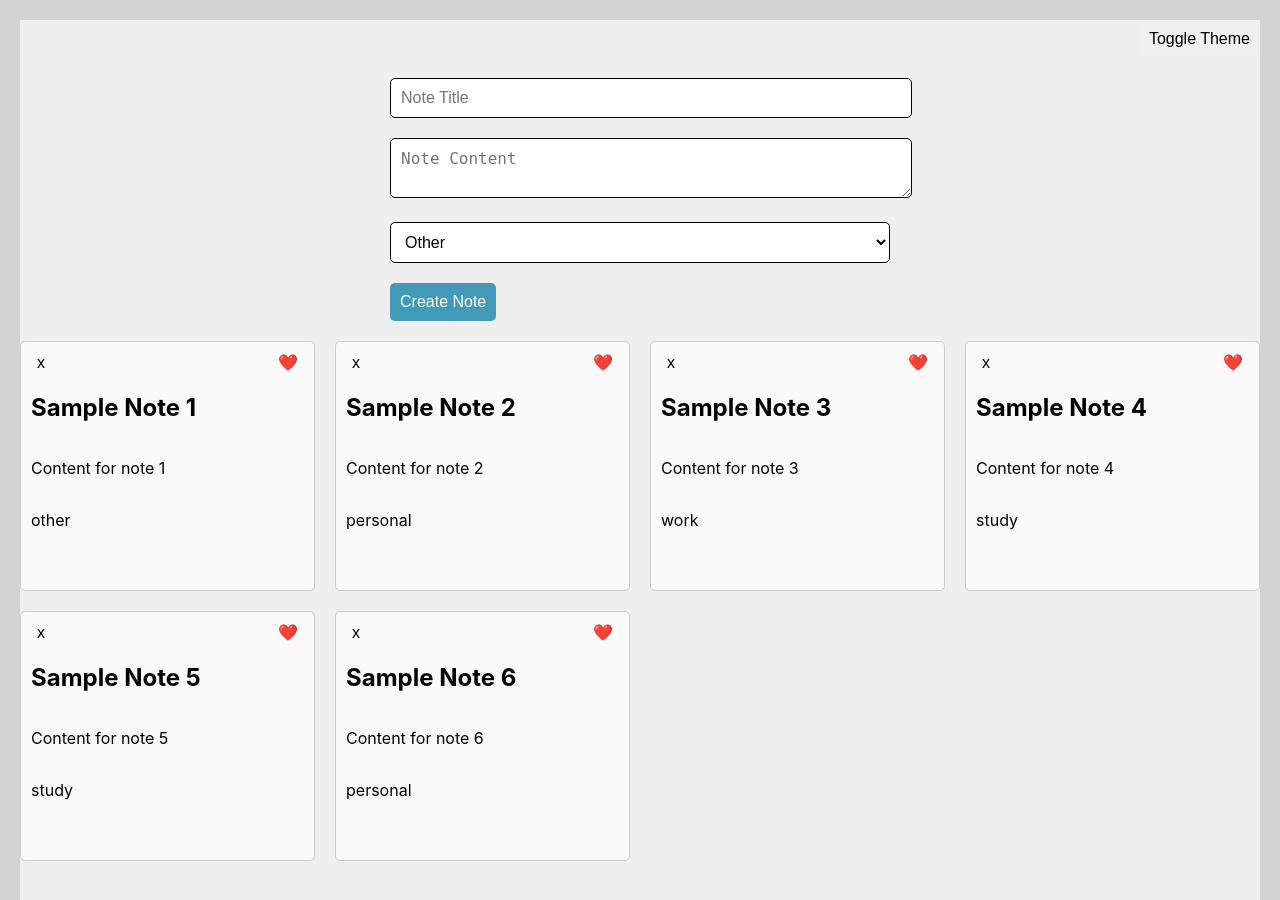
Test: StickyNotes Component › creates a new note
Type "Test Note" into the field with placeholder "Note Title" at (651, 98), box [390, 78, 912, 118]
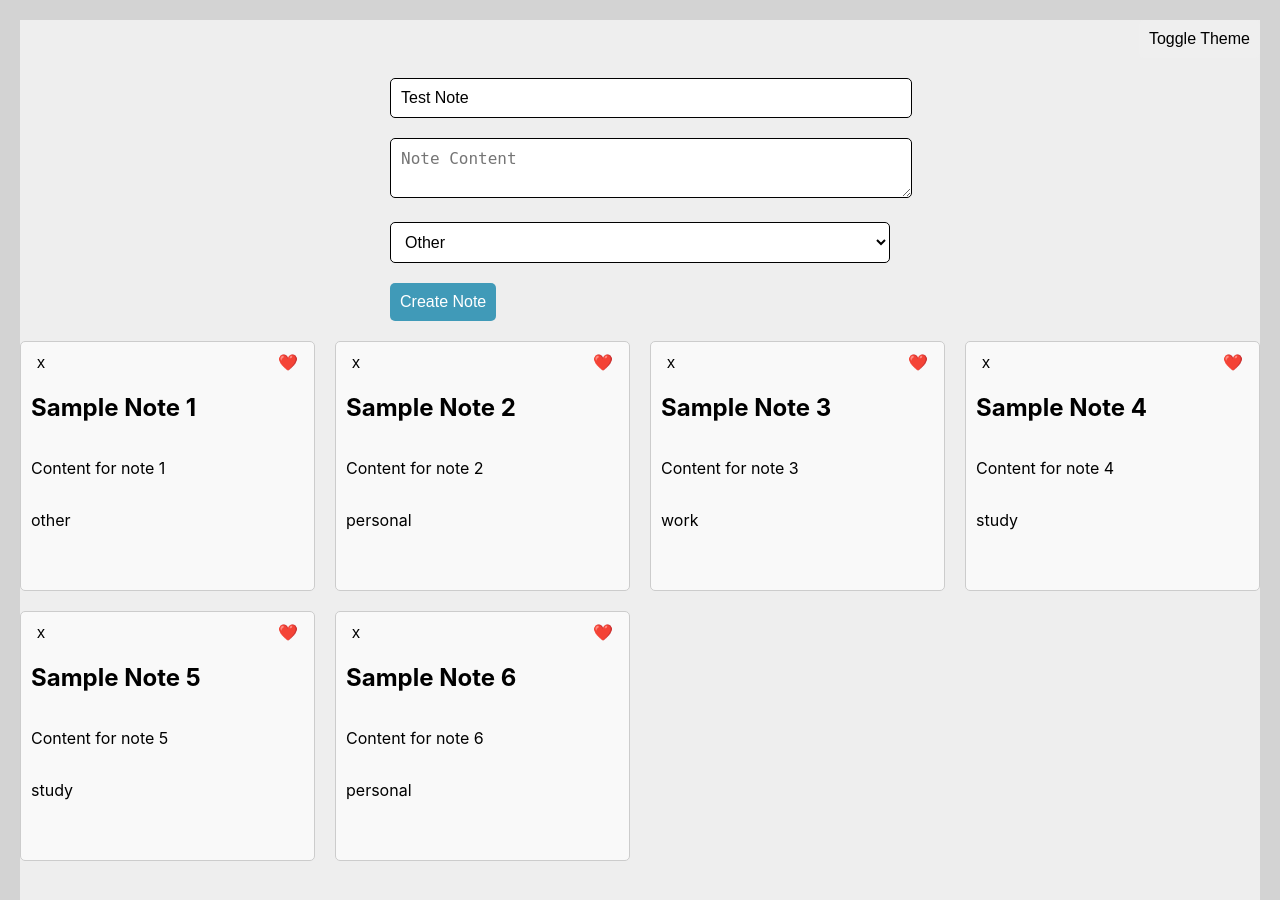
Type "This is a test note." into the text box with placeholder "Note Content" at (651, 168), box [390, 138, 912, 198]
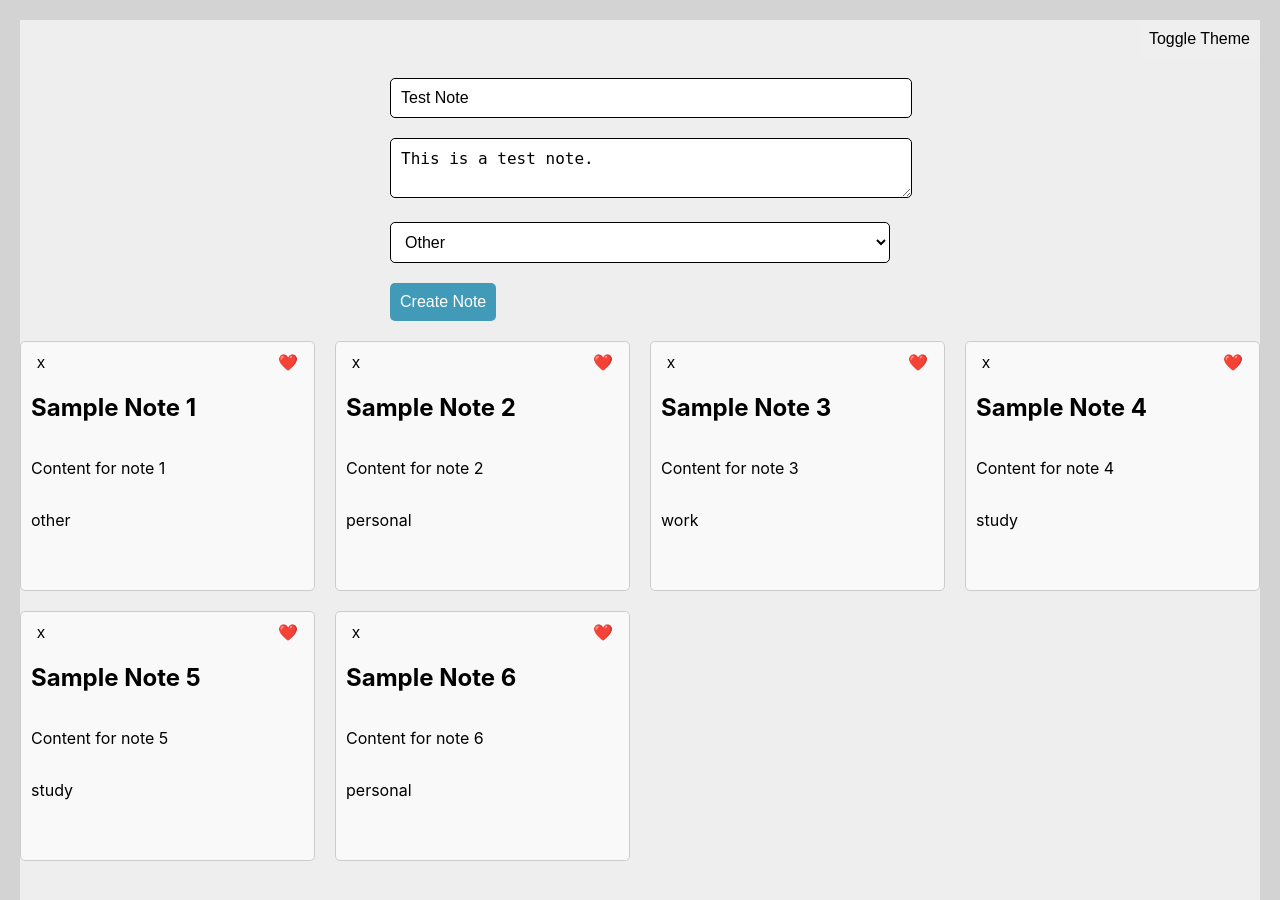
Select "Work" in the dropdown at (640, 242), box [390, 222, 890, 263]
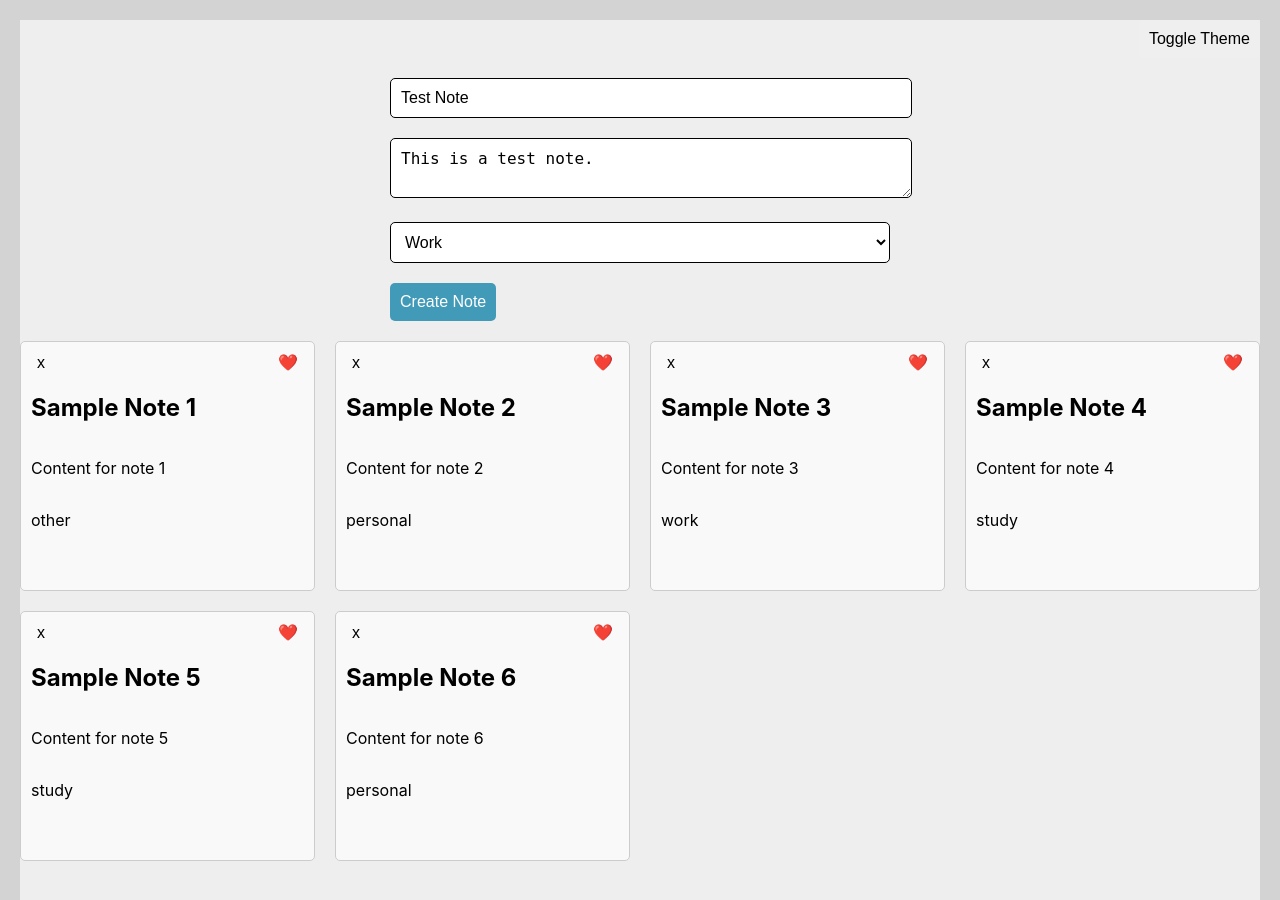
Click the button "Create Note" at (443, 302), box [390, 283, 496, 321]
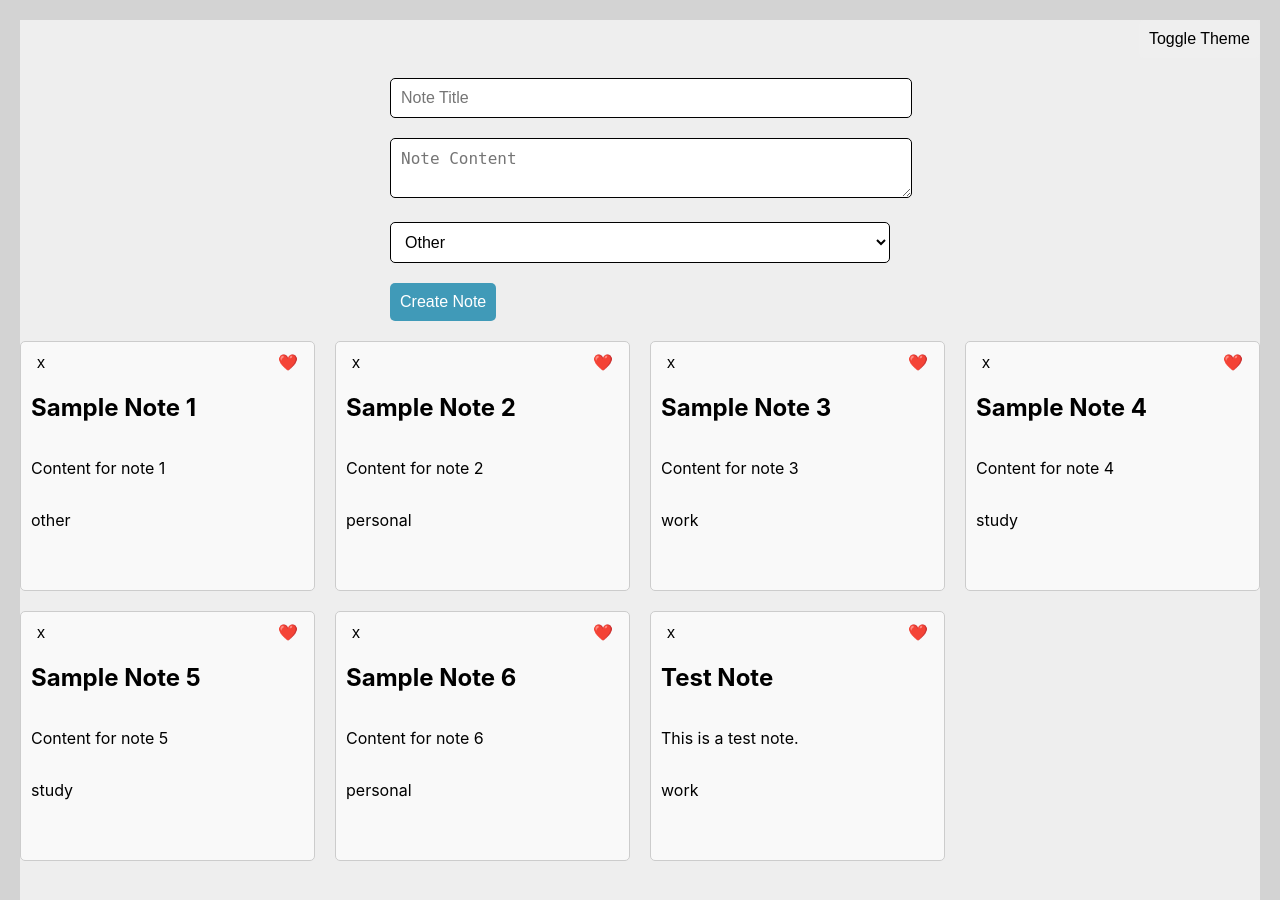
Check: the heading "Test Note" is shown, box [661, 663, 773, 692]
Check: the text "This is a test note." is shown, box [661, 728, 799, 748]
